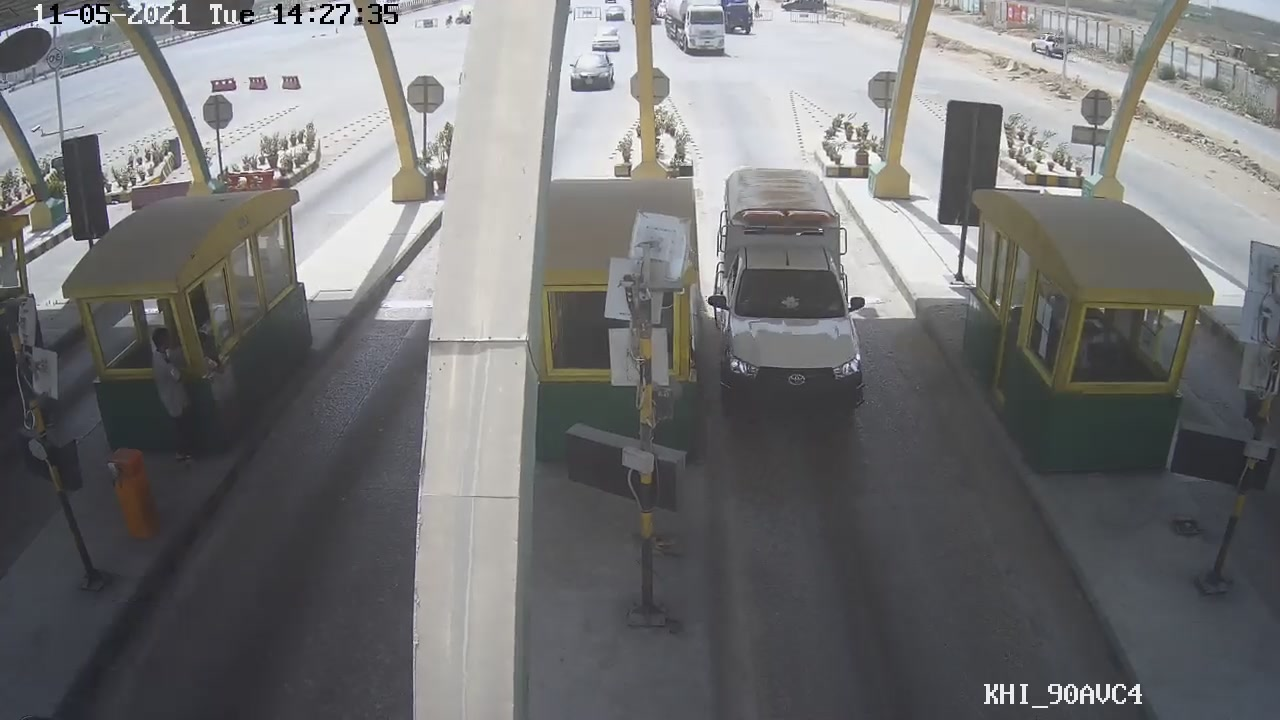F1: (709, 186, 873, 427)
